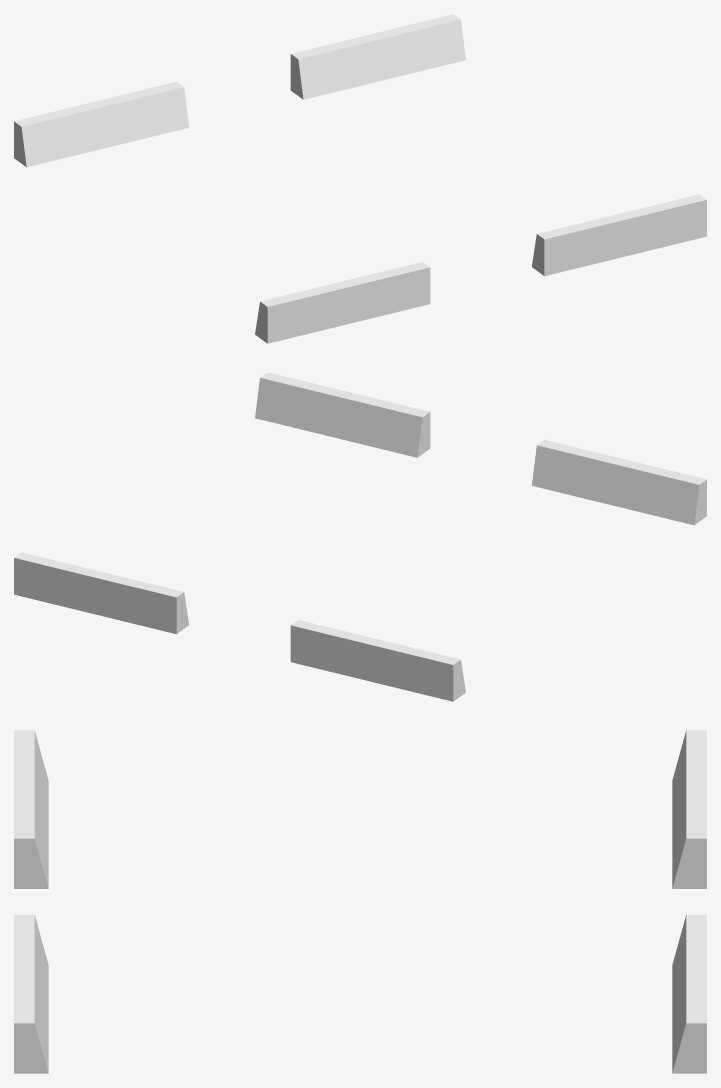
Rendered from road-driveway-double-barrier.glb.
3 views of the same model, one above another, from view 1: azimuth 30°, elevation 25°; view 2: azimuth 150°, elevation 25°; view 3: azimuth 270°, elevation 25° (orthographic). The views are drawn at different scales.
Parts seen in each view (by area): view 1: road-driveway-double-barrier; view 2: road-driveway-double-barrier; view 3: road-driveway-double-barrier.
Boxes of the visible parts, bbox=[...] form: road-driveway-double-barrier: bbox=[14, 14, 706, 343]; road-driveway-double-barrier: bbox=[14, 372, 706, 701]; road-driveway-double-barrier: bbox=[14, 730, 706, 1073].
Size of the model in its own units: 1 by 0.08 by 1.
1 material, 1 textured.
